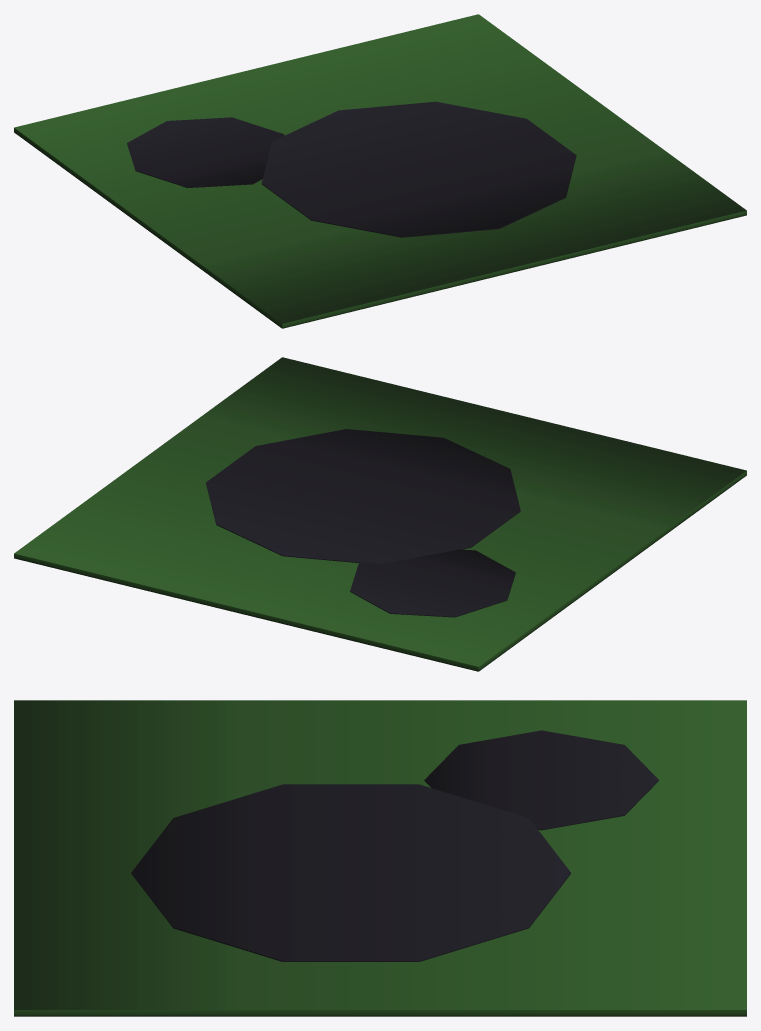
File: ground_mud.gltf
3 renders of one model, top to bottom at view 1: azimuth 30°, elevation 25°; view 2: azimuth 150°, elevation 25°; view 3: azimuth 270°, elevation 25°, orthographic. The views are drawn at different scales.
Visible parts, largest first — view 1: ground_mud; view 2: ground_mud; view 3: ground_mud.
Boxes of the visible parts, bbox=[...] form: ground_mud: bbox=[14, 14, 746, 328]; ground_mud: bbox=[14, 357, 746, 671]; ground_mud: bbox=[14, 700, 746, 1016].
Bounding box in the file's own units: 1 × 0.0116 × 1.
Materials: 1 (1 with a texture image).
